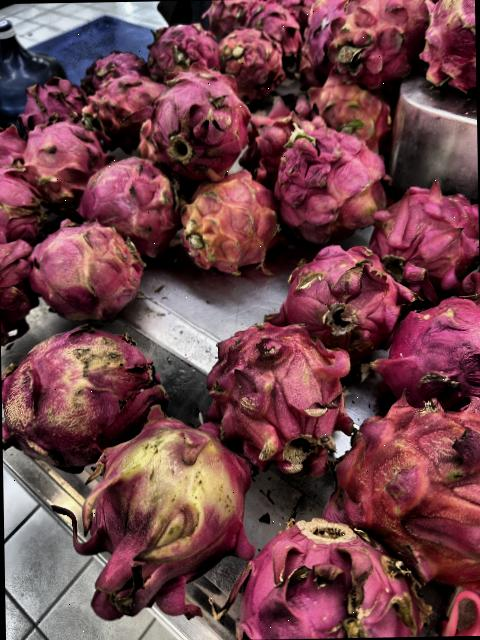buah-naga-belum-matang: (85, 412, 252, 606), (332, 413, 480, 565), (1, 321, 172, 448), (25, 222, 145, 315), (183, 175, 274, 278), (312, 0, 418, 84), (419, 0, 476, 96), (316, 75, 393, 145)
buah-naga-matang: (238, 513, 420, 640), (208, 328, 338, 446), (284, 240, 404, 344), (368, 190, 480, 296), (382, 290, 480, 397), (148, 70, 244, 177), (73, 158, 173, 252), (20, 120, 106, 204), (139, 16, 221, 72), (222, 28, 292, 92), (85, 75, 156, 135), (235, 0, 299, 56), (70, 41, 150, 85), (0, 241, 38, 330), (0, 168, 44, 242), (16, 80, 82, 118), (0, 118, 27, 170)
